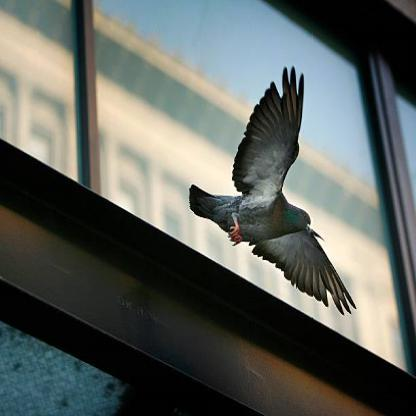Flying Rat: (180, 83, 351, 303)
